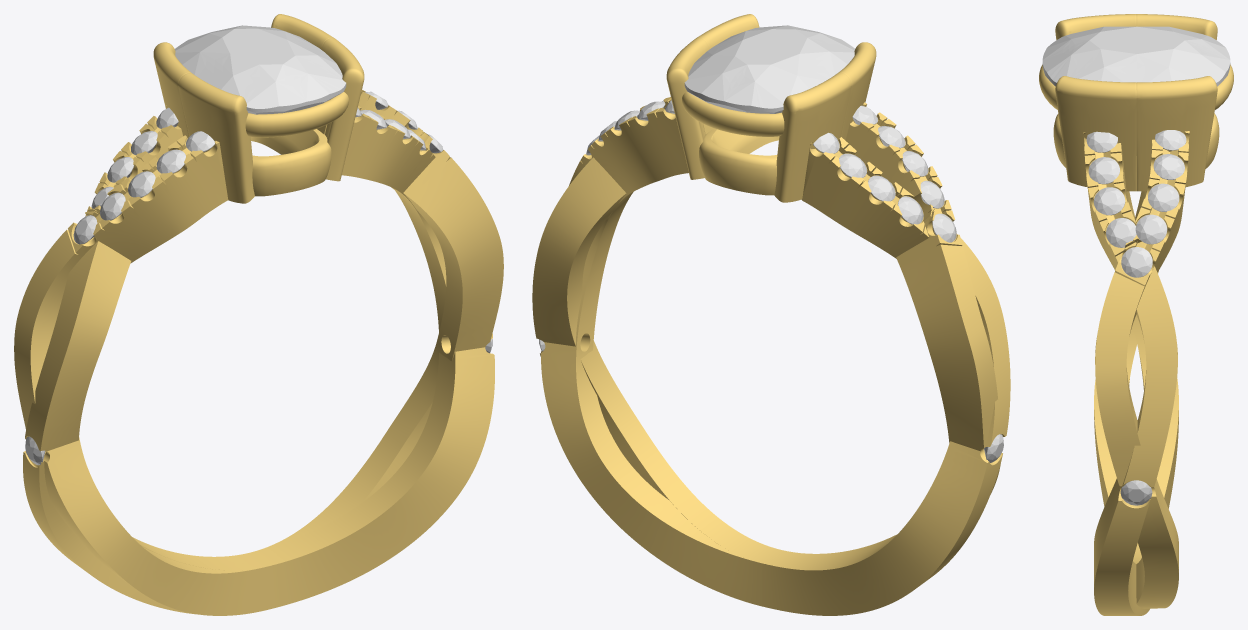
Rendered from diamond-cushion-yellowgold-halfmoonbezel-twist-sidestones.glb.
The picture shows the model from 3 angles, left to right: view 1: azimuth 30°, elevation 25°; view 2: azimuth 150°, elevation 25°; view 3: azimuth 270°, elevation 25°; orthographic projection.
Parts seen in each view (by area): view 1: metal, stone; view 2: metal, stone; view 3: metal, stone, side.015, side.016, side.012, side.017, side.011, side.013, side.018, side.010, side.014, side.019.
Boxes of the visible parts, <box> form: metal: <box>14,14,503,615</box>; stone: <box>175,25,346,114</box>; metal: <box>532,14,1010,615</box>; stone: <box>684,25,854,113</box>; metal: <box>1039,14,1233,615</box>; stone: <box>1042,26,1230,86</box>; side.015: <box>1121,247,1152,277</box>; side.016: <box>1135,214,1167,244</box>; side.012: <box>1093,187,1125,215</box>; side.017: <box>1148,183,1179,211</box>; side.011: <box>1106,218,1136,247</box>; side.013: <box>1088,157,1119,184</box>; side.018: <box>1153,154,1184,179</box>; side.010: <box>1120,480,1152,505</box>; side.014: <box>1086,131,1117,152</box>; side.019: <box>1155,130,1186,150</box>.
Bounding box in the file's own units: 19.97 × 23.03 × 7.42.
